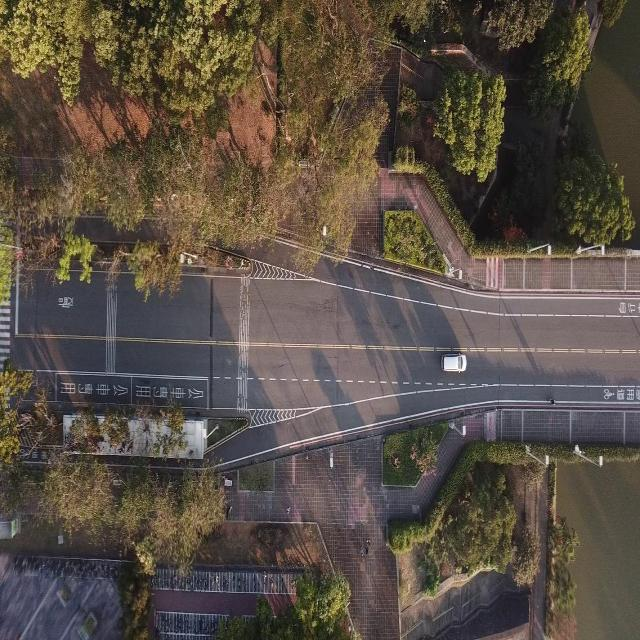car: (440, 349, 466, 372)
